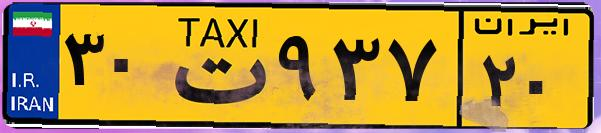0: (525, 38, 570, 115), (110, 28, 158, 98)
2: (475, 38, 525, 113)
3: (330, 28, 385, 110), (57, 26, 110, 100)
7: (385, 28, 445, 110)
9: (270, 28, 330, 110)
ت: (158, 12, 270, 120)
